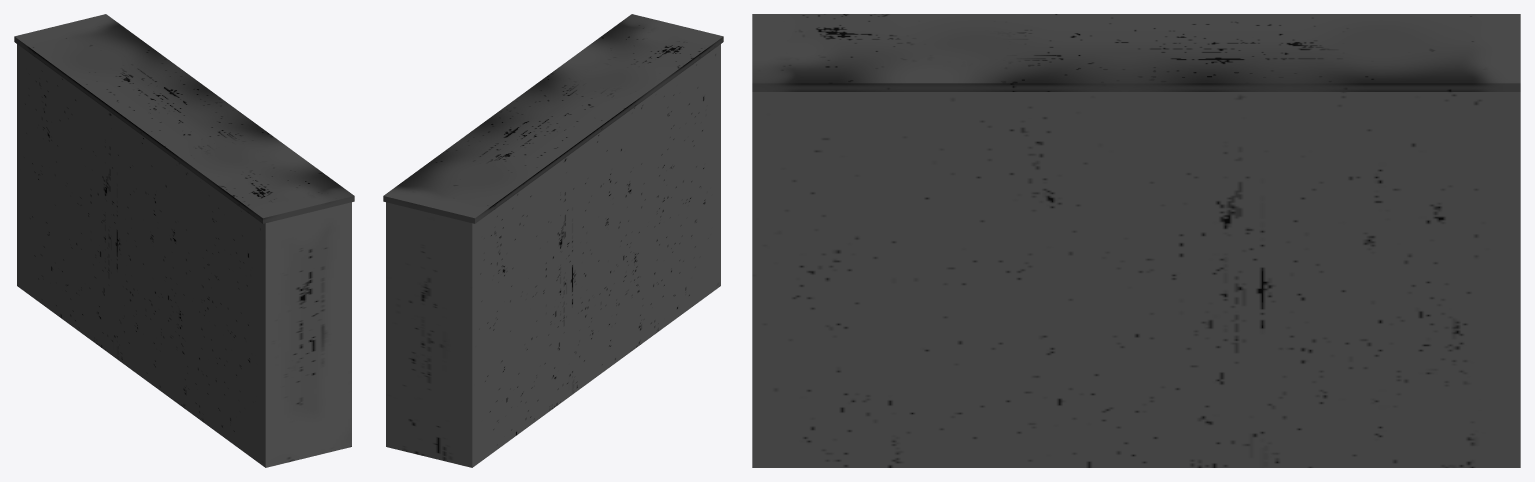
Rendered from Base_Ground_14x3_V1.fbx.
3 views of the same model, side by side, from view 1: azimuth 30°, elevation 25°; view 2: azimuth 150°, elevation 25°; view 3: azimuth 270°, elevation 25° (orthographic). The views are drawn at different scales.
Parts seen in each view (by area): view 1: Base Ground 14x3 V1; view 2: Base Ground 14x3 V1; view 3: Base Ground 14x3 V1.
Part boxes in pixels (x1,y1,x2,y2): Base Ground 14x3 V1: (14, 14, 354, 467); Base Ground 14x3 V1: (383, 14, 723, 467); Base Ground 14x3 V1: (752, 14, 1520, 467).
Bounding box in the file's own units: 298 × 778 × 1400.
